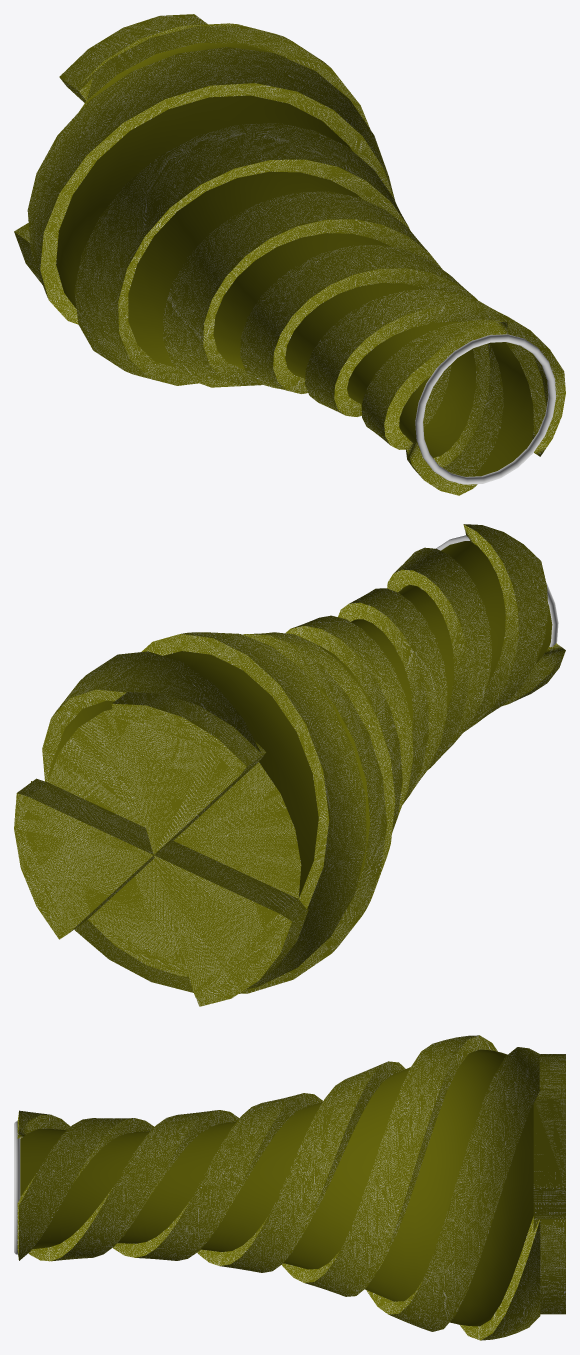
File: model_scale.obj
3 views of the same model, one above another, from view 1: azimuth 30°, elevation 25°; view 2: azimuth 150°, elevation 25°; view 3: azimuth 270°, elevation 25° (orthographic). The views are drawn at different scales.
Visible parts, largest first — view 1: mesh1_mesh1-geometry, mesh2_mesh2-geometry; view 2: mesh1_mesh1-geometry; view 3: mesh1_mesh1-geometry, mesh2_mesh2-geometry.
Boxes of the visible parts, bbox=[...] form: mesh1_mesh1-geometry: bbox=[14, 14, 565, 495]; mesh2_mesh2-geometry: bbox=[415, 334, 556, 484]; mesh1_mesh1-geometry: bbox=[14, 524, 565, 1006]; mesh1_mesh1-geometry: bbox=[17, 1035, 565, 1340]; mesh2_mesh2-geometry: bbox=[14, 1121, 20, 1254].
Size of the model in its own units: 0.1282 by 0.1273 by 0.2321.
